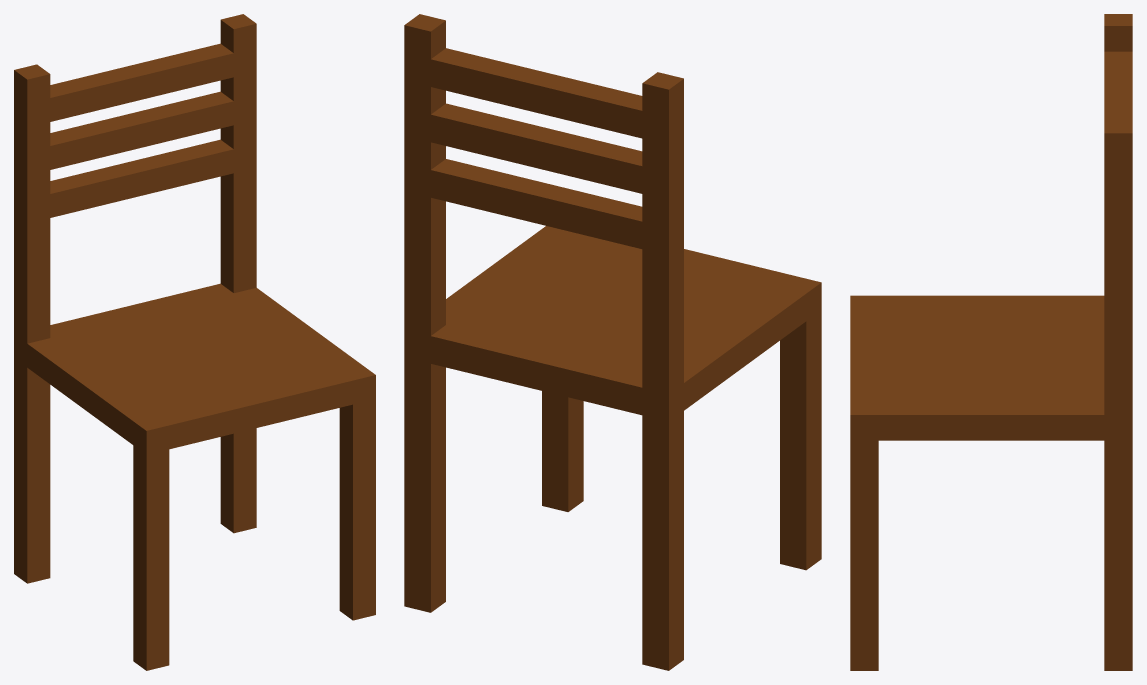
Rendered from chair.obj.
3 renders of one model, left to right at view 1: azimuth 30°, elevation 25°; view 2: azimuth 150°, elevation 25°; view 3: azimuth 270°, elevation 25°, orthographic. The views are drawn at different scales.
Parts seen in each view (by area): view 1: chair; view 2: chair; view 3: chair.
Part boxes in pixels (x1,y1,x2,y2): chair: (14, 14, 375, 670); chair: (404, 14, 821, 670); chair: (850, 14, 1132, 670).
Size of the model in its own units: 10 by 21 by 10.
Materials: 1 (1 with a texture image).
